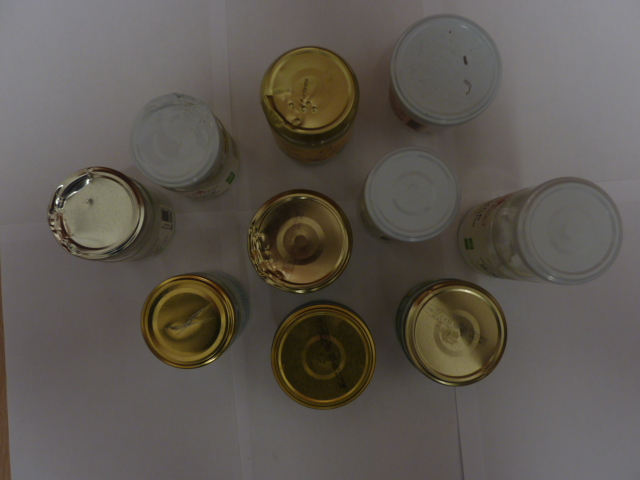damaged: (390, 12, 504, 125), (247, 190, 352, 292), (129, 92, 224, 188), (140, 274, 233, 369), (260, 46, 358, 136)
intact: (519, 175, 624, 284), (272, 304, 376, 410), (404, 283, 508, 387)
